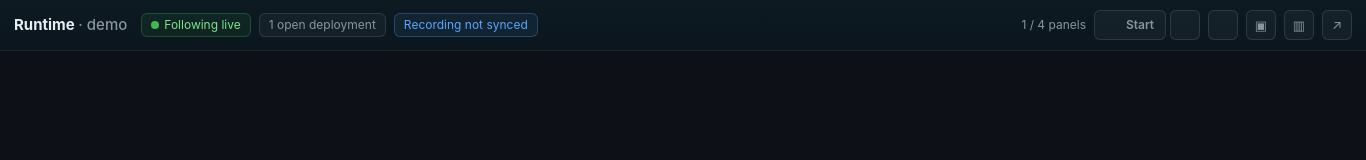
Test: RuntimeWorkbenchHeader › disables Attach debugger when the deployment cannot open code debug
Click the button with test id "start-menu-toggle".
click(1185, 25)  # box [1170,10,1200,40]
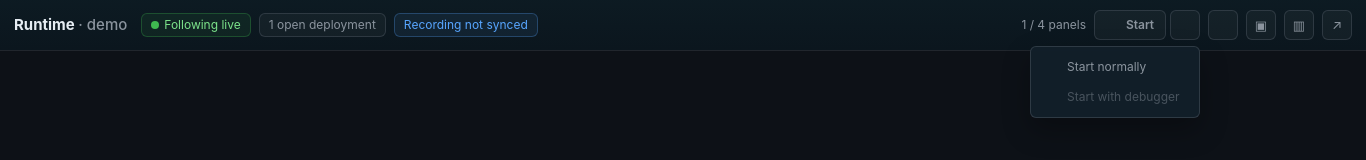
Result: the button with test id "start-debug" is disabled at [1036,82,1194,112]
